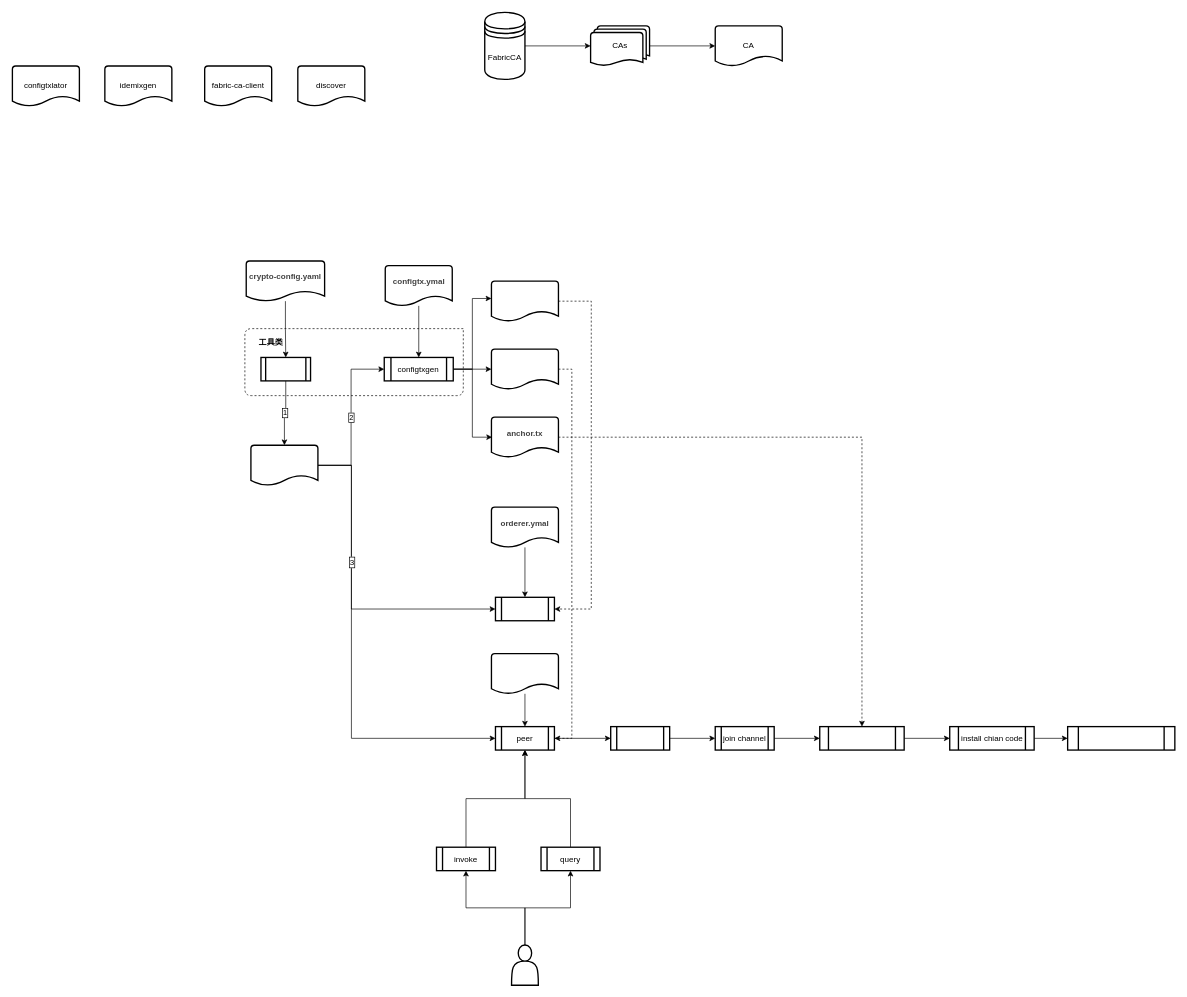
Image size: 1187x997. Some labels were removed from this diagram. Here are the shapes that lost their labels. From the top down, the centre of each, then its label:
point (524, 301): genesis block
point (285, 368): cryptogen
point (524, 369): channel.tx
point (284, 465): MSP
point (524, 608): orderer
point (524, 673): core.ymal
point (640, 738): channel
point (861, 738): update anchor
point (1121, 738): instantiate chian code
